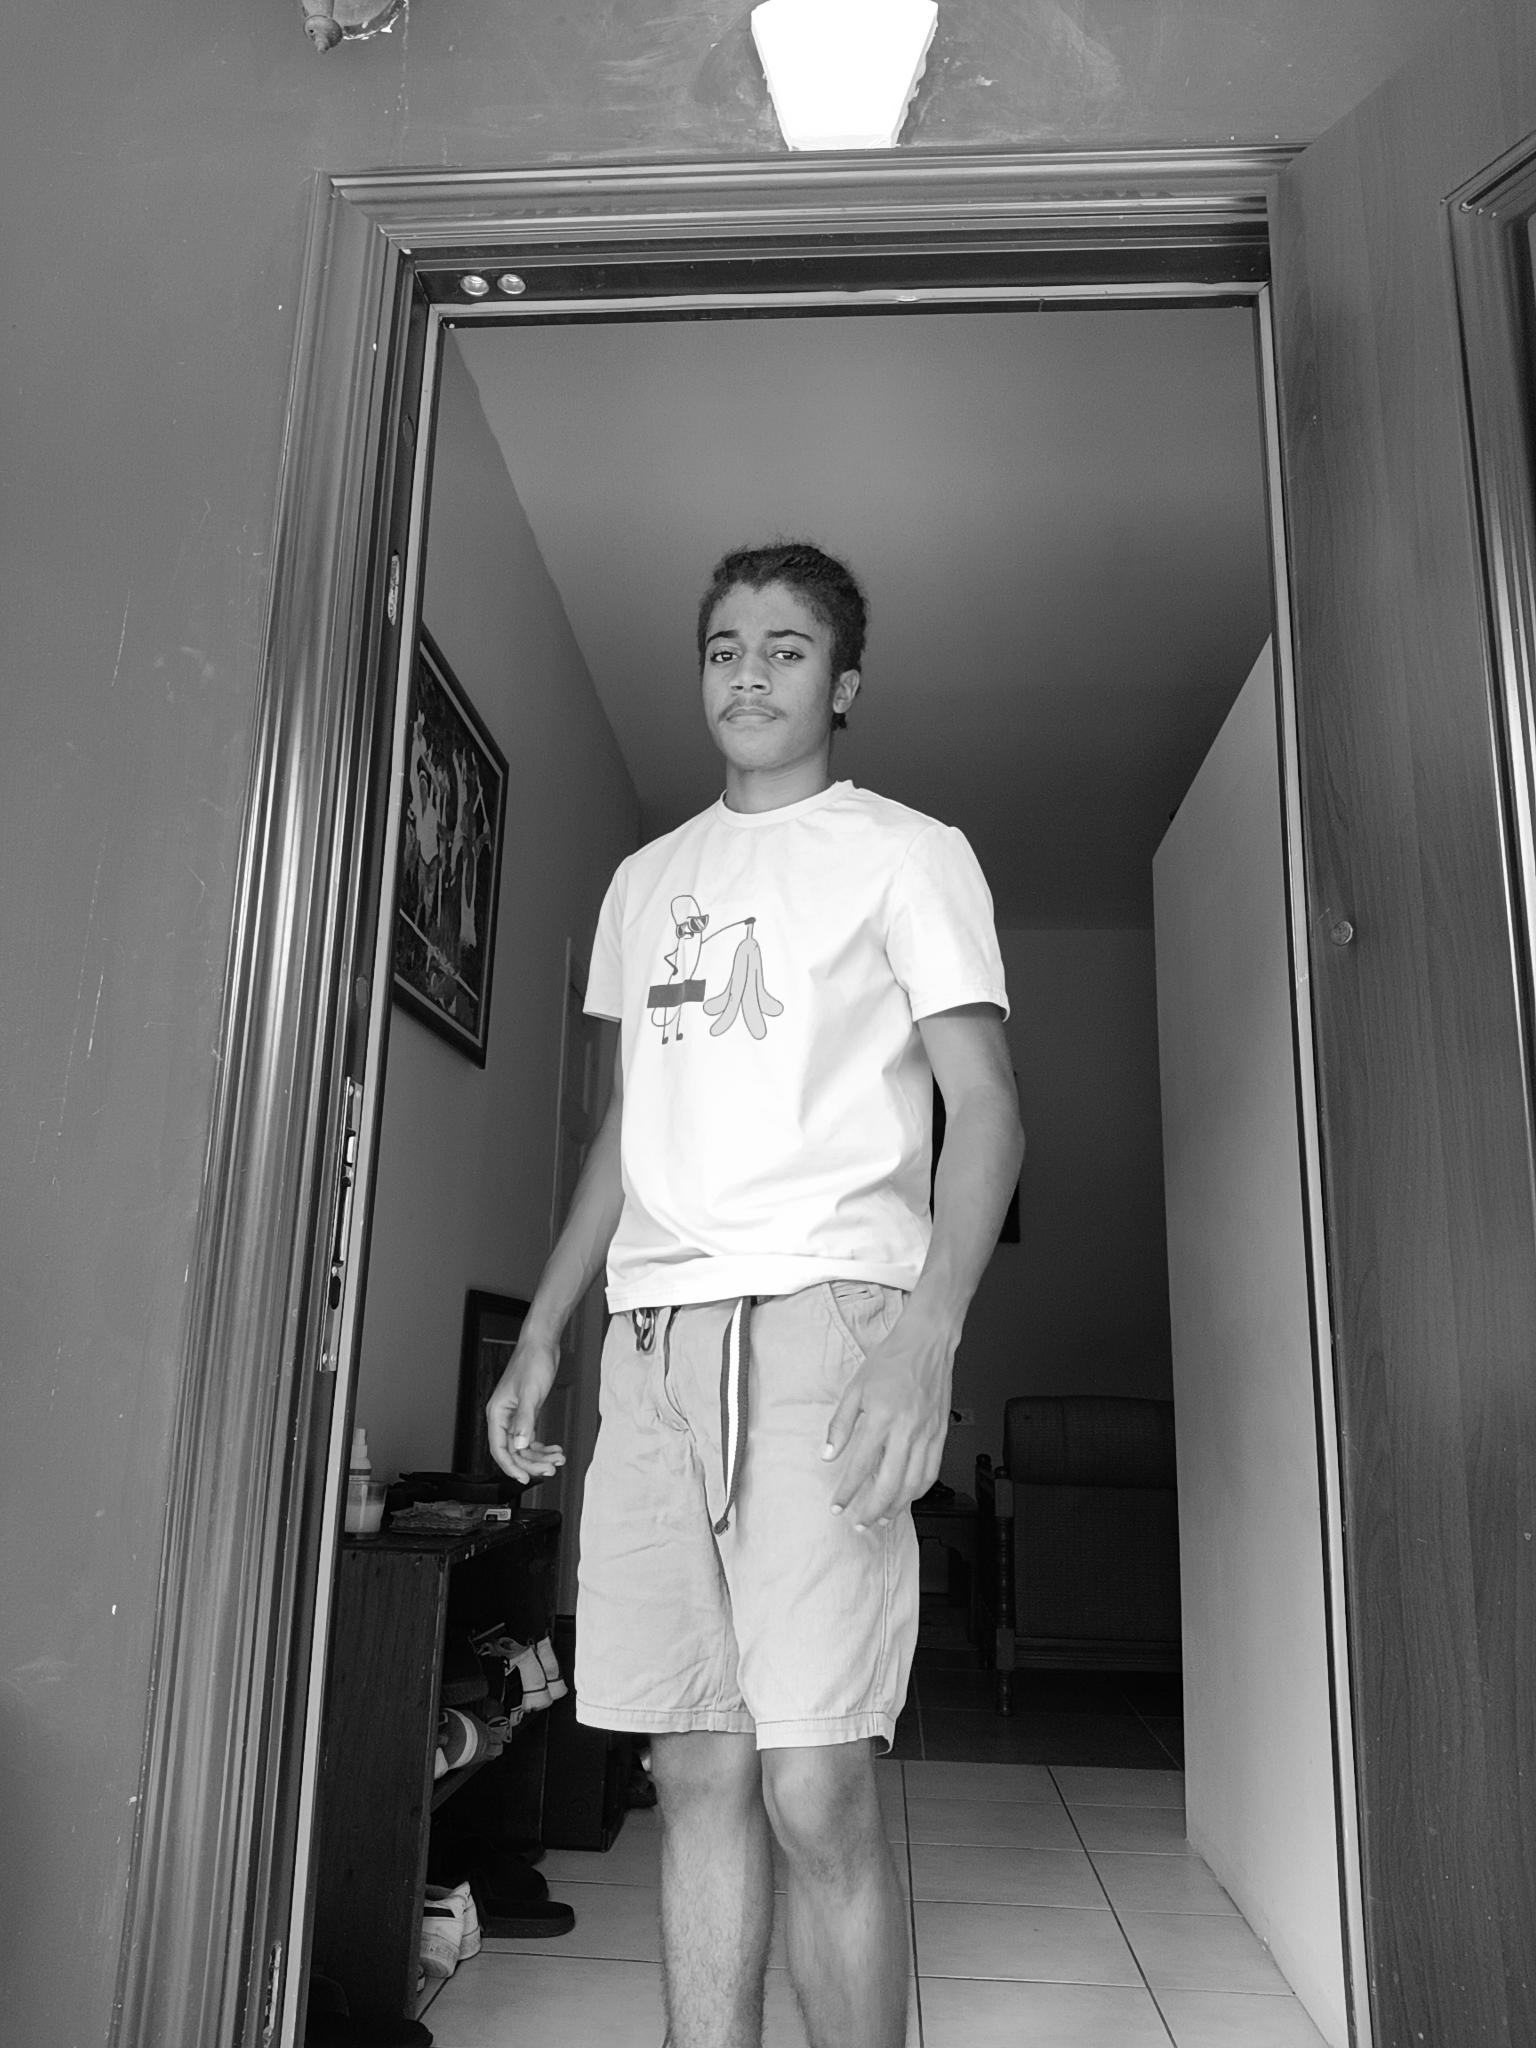front: (481, 535, 1029, 2040)
